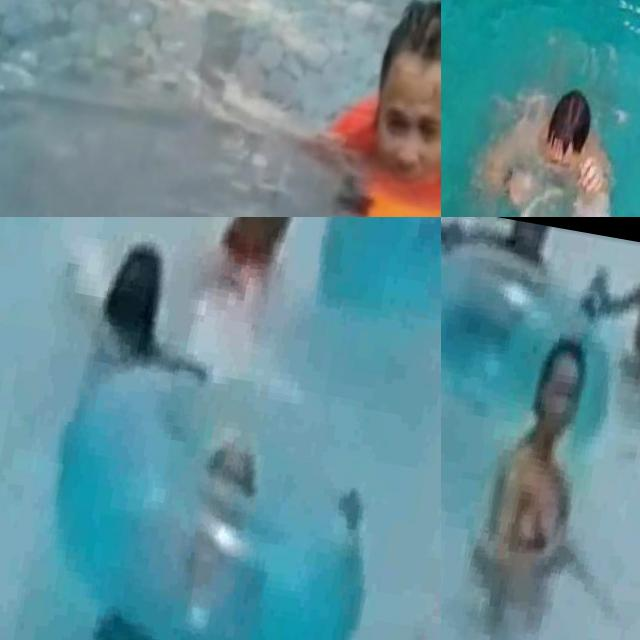drowning: (29, 217, 248, 404), (464, 68, 633, 217)
swimming: (447, 333, 618, 618), (285, 0, 441, 217), (566, 233, 640, 380)
